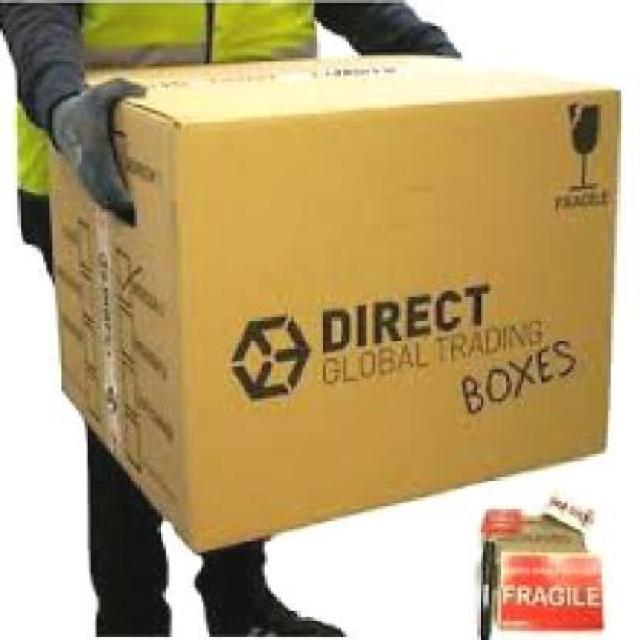box: (40, 67, 620, 560)
